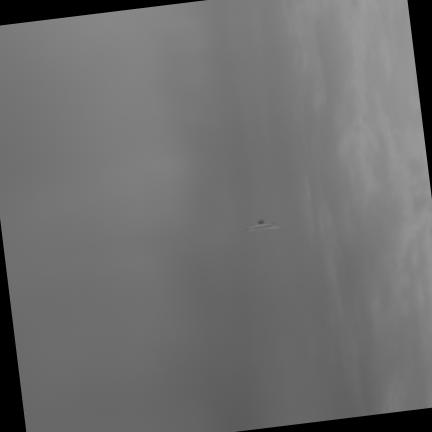Shahed: (245, 219, 284, 232)
